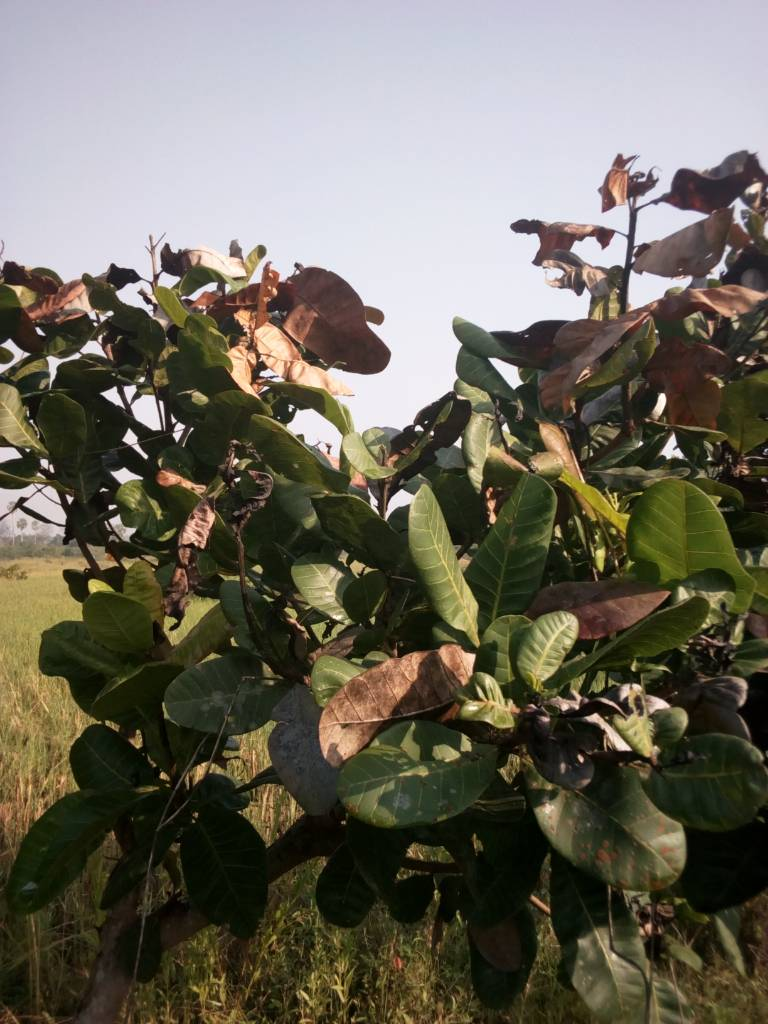Dessèchement des bourgeons: (543, 700, 667, 774)
